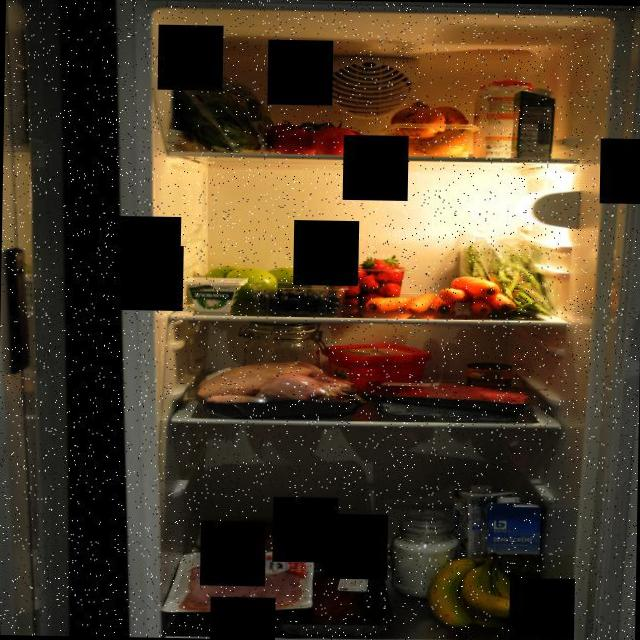Carne cerdo: (180, 554, 306, 610)
Carne pollo: (190, 355, 377, 424)
Carne vacuno: (299, 571, 376, 622)
Cebolla: (386, 98, 474, 154)
Leche: (478, 493, 548, 604), (452, 484, 508, 579)
Mantequilla: (321, 341, 432, 395)
Manzana: (206, 260, 314, 304)
Patata: (206, 517, 304, 561)
Plátano: (428, 552, 556, 634)
Tomate: (258, 114, 378, 158)
Zanahoria: (432, 274, 522, 318), (360, 294, 432, 316)
